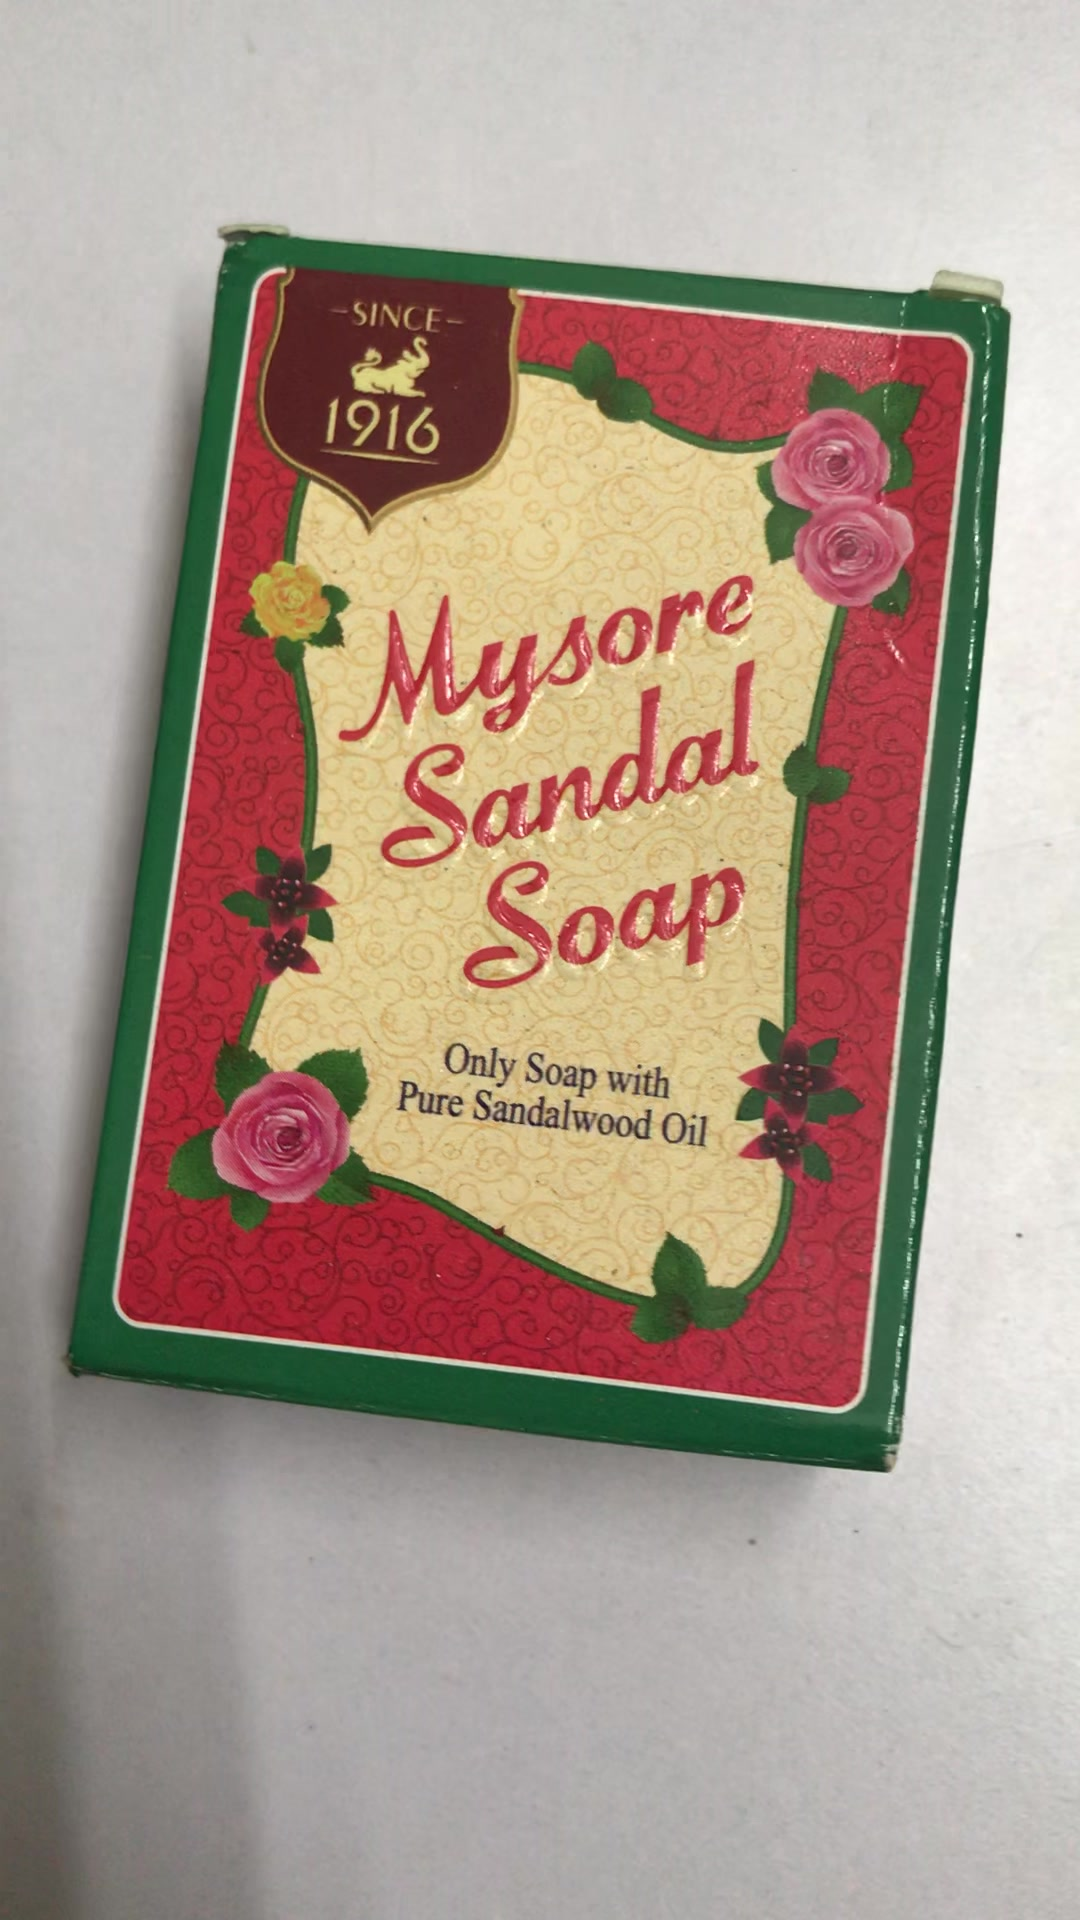mysore sandal soap: (69, 225, 1015, 1476)
